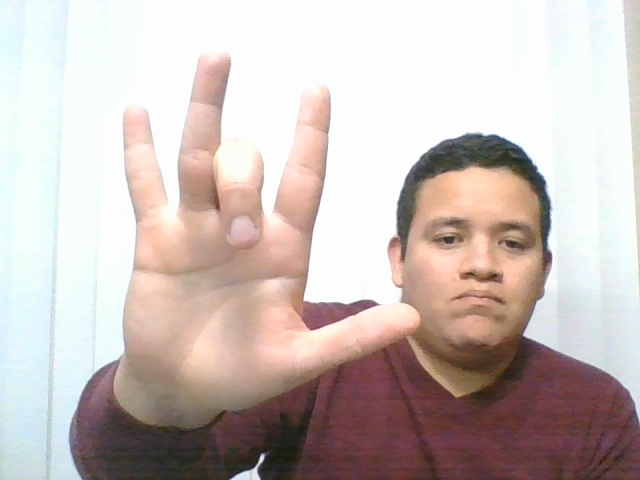Eight: (84, 31, 435, 426)
